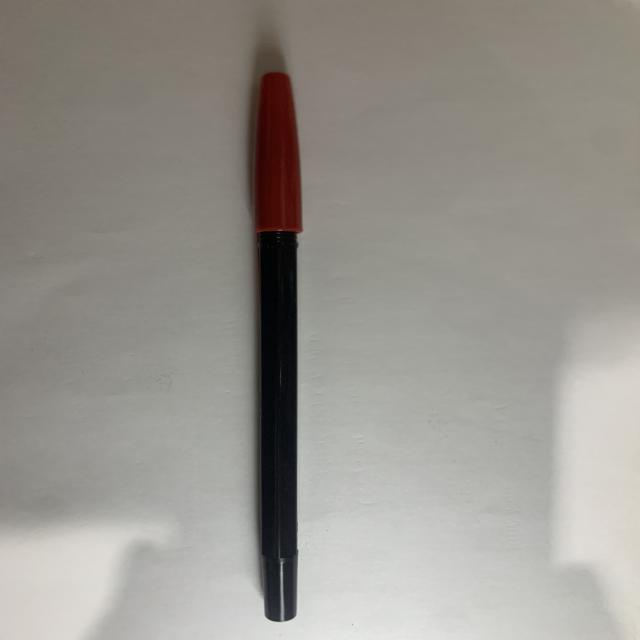Pulpen: (235, 64, 336, 623)
